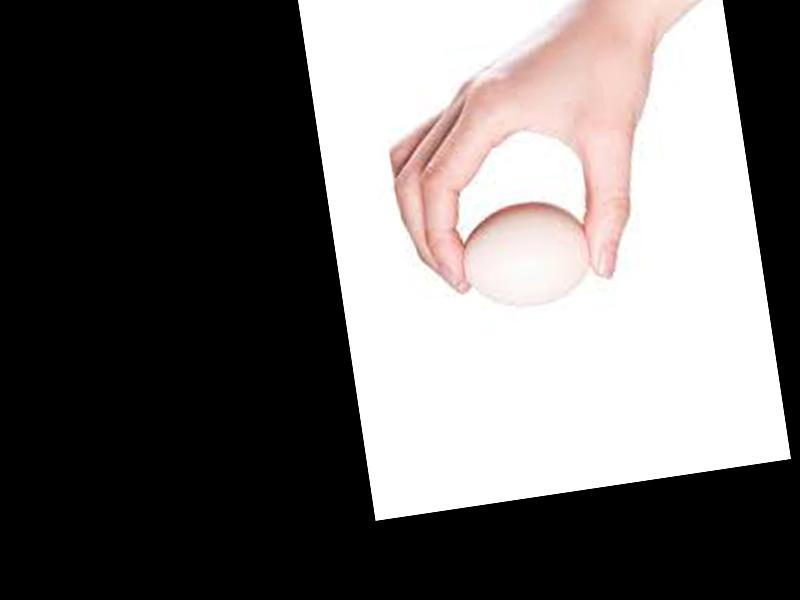Eggs: (454, 194, 597, 315)
